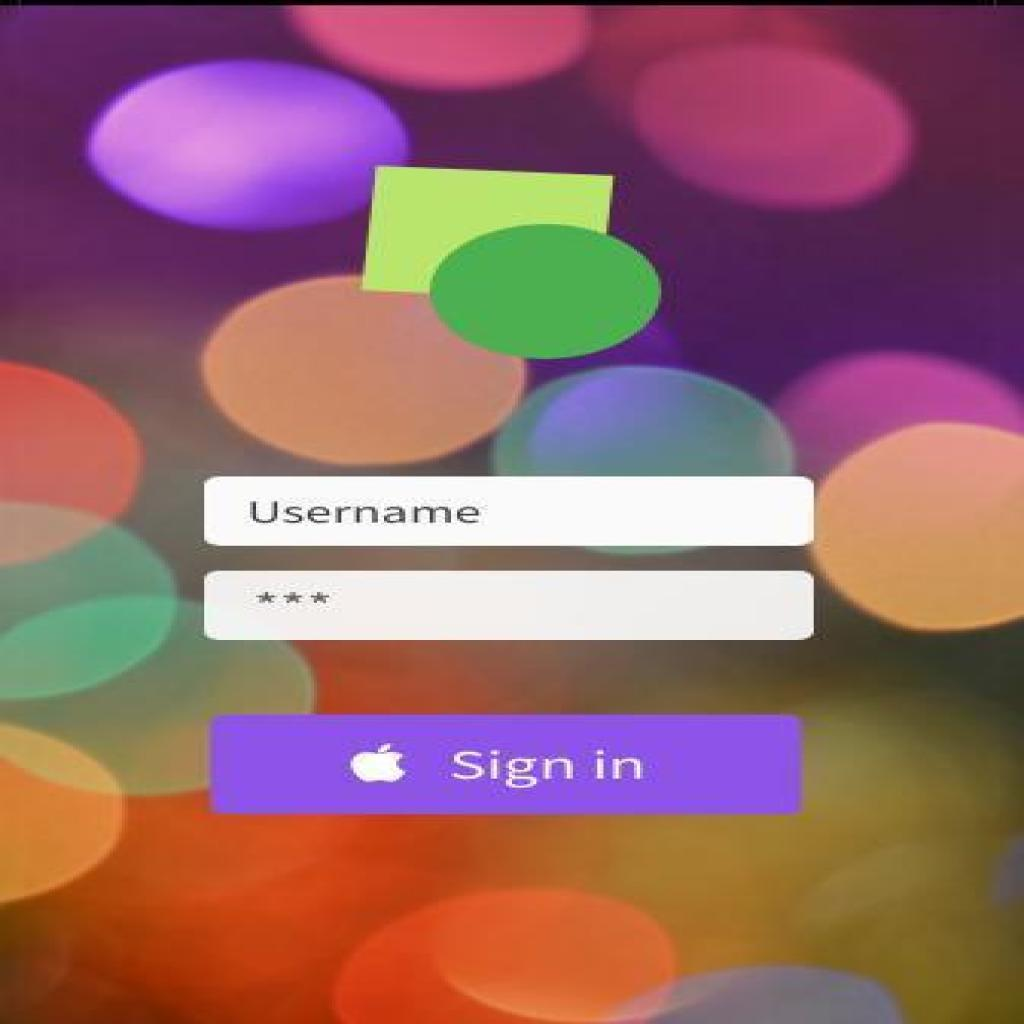button: (207, 713, 814, 812)
input: (201, 476, 820, 548), (204, 571, 814, 640)
